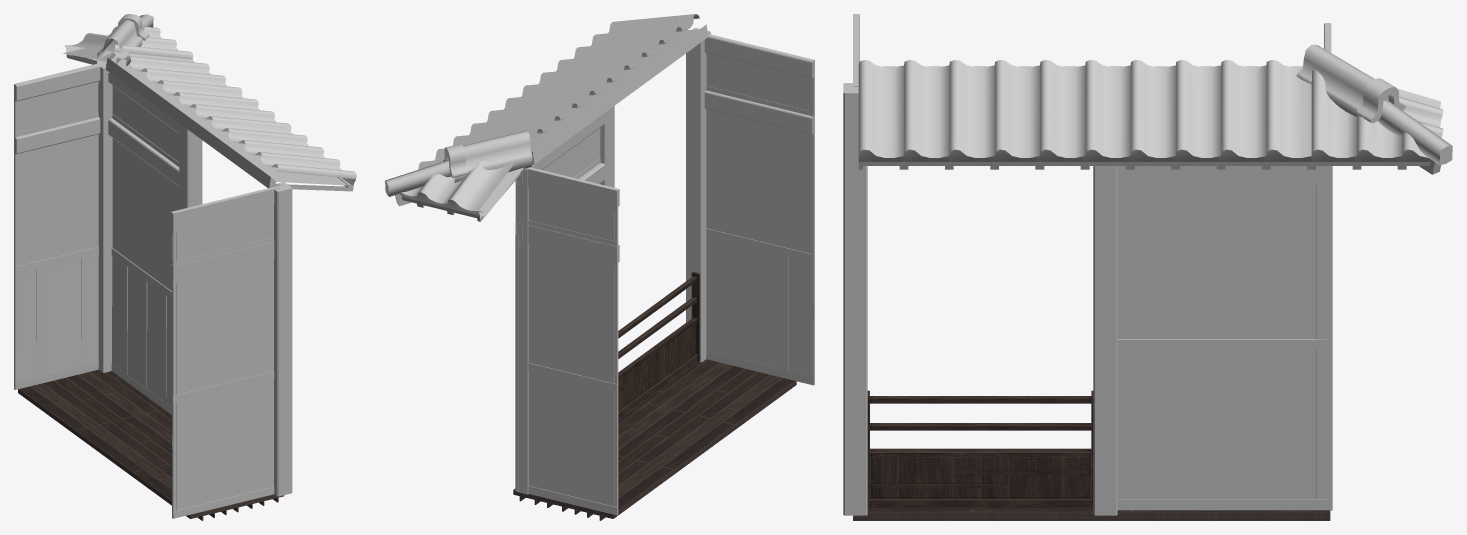
File: 5-2_Building.fbx
The picture shows the model from 3 angles, left to right: view 1: azimuth 30°, elevation 25°; view 2: azimuth 150°, elevation 25°; view 3: azimuth 270°, elevation 25°; orthographic projection. The views are drawn at different scales.
Visible parts, largest first — view 1: _Combined Mesh [5-2_Building]; view 2: _Combined Mesh [5-2_Building]; view 3: _Combined Mesh [5-2_Building].
Boxes of the visible parts, x1,y1,x2,y2 form: _Combined Mesh [5-2_Building]: [14, 14, 356, 520]; _Combined Mesh [5-2_Building]: [385, 14, 814, 520]; _Combined Mesh [5-2_Building]: [843, 14, 1452, 520].
Size of the model in its own units: 2.17 by 3.71 by 4.31.
